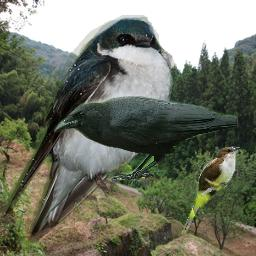Crow: (54, 96, 238, 182)
Cuckoo: (181, 146, 241, 235)
Swallow: (3, 10, 179, 242)
